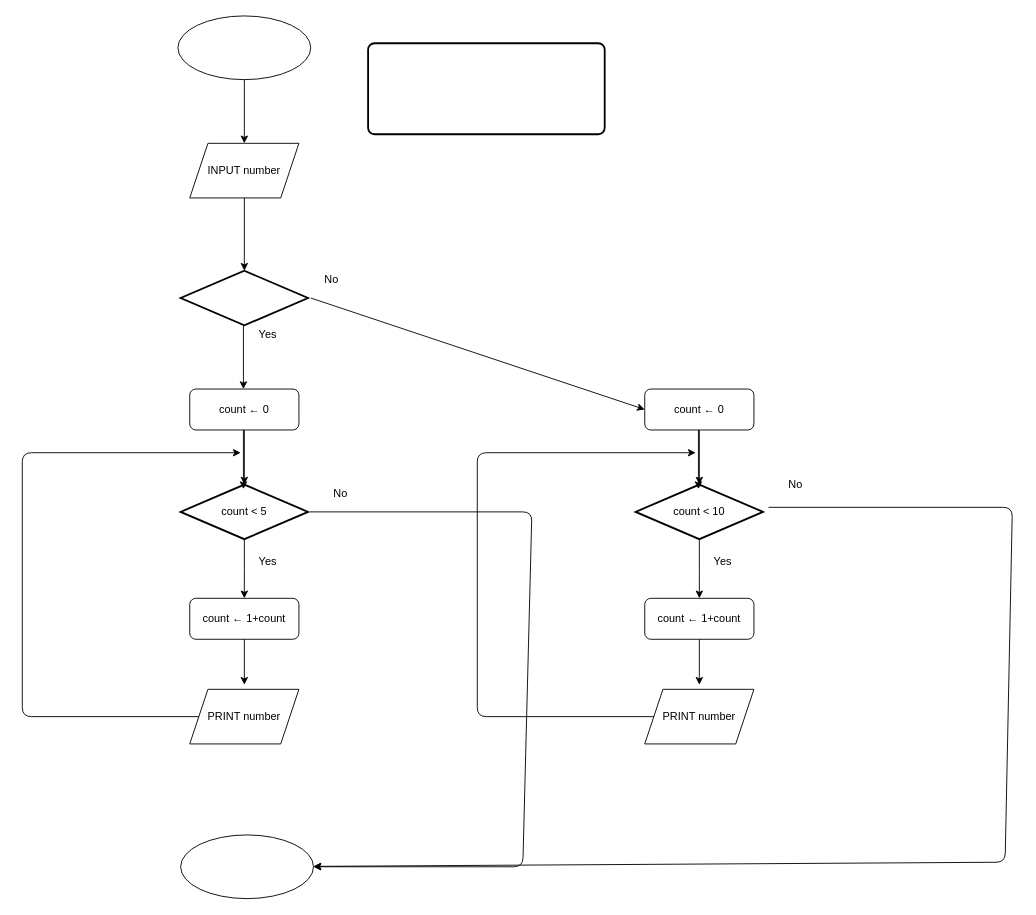
Some shapes in this 1036 by 915 pixel diagram are drawn without their labels. Here are the shapes that lost their labels. From the top down, the centre of each, then its label:
At (244,47): "開始".
At (486,88): "変数定義 number: 入力された数値 odd: 奇数".
At (243,297): "number%2 = 0".
At (246,866): "終了".
